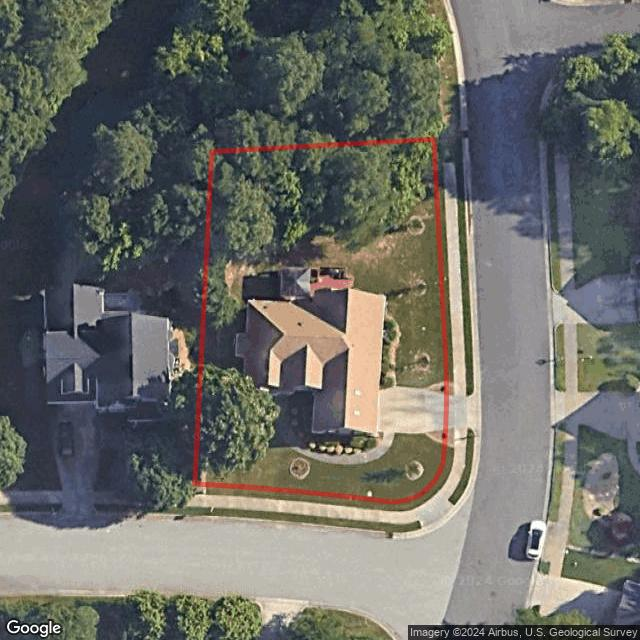Driveway: (378, 385, 446, 434)
Extra-Driveway: (446, 390, 480, 438)
Extra-Lawn: (194, 445, 454, 514), (194, 505, 424, 531), (432, 137, 454, 383), (456, 138, 474, 397), (448, 427, 475, 507)
Extra-Sidewalk: (196, 426, 468, 527), (443, 162, 466, 398)
House: (237, 286, 384, 435)
Lawn: (195, 139, 447, 501)
Other: (273, 393, 396, 464), (289, 392, 379, 456), (277, 265, 354, 300), (379, 311, 399, 390), (290, 457, 312, 480), (413, 351, 432, 373), (424, 428, 447, 445), (405, 460, 424, 480), (410, 277, 427, 296), (407, 217, 425, 234), (425, 381, 448, 394)
